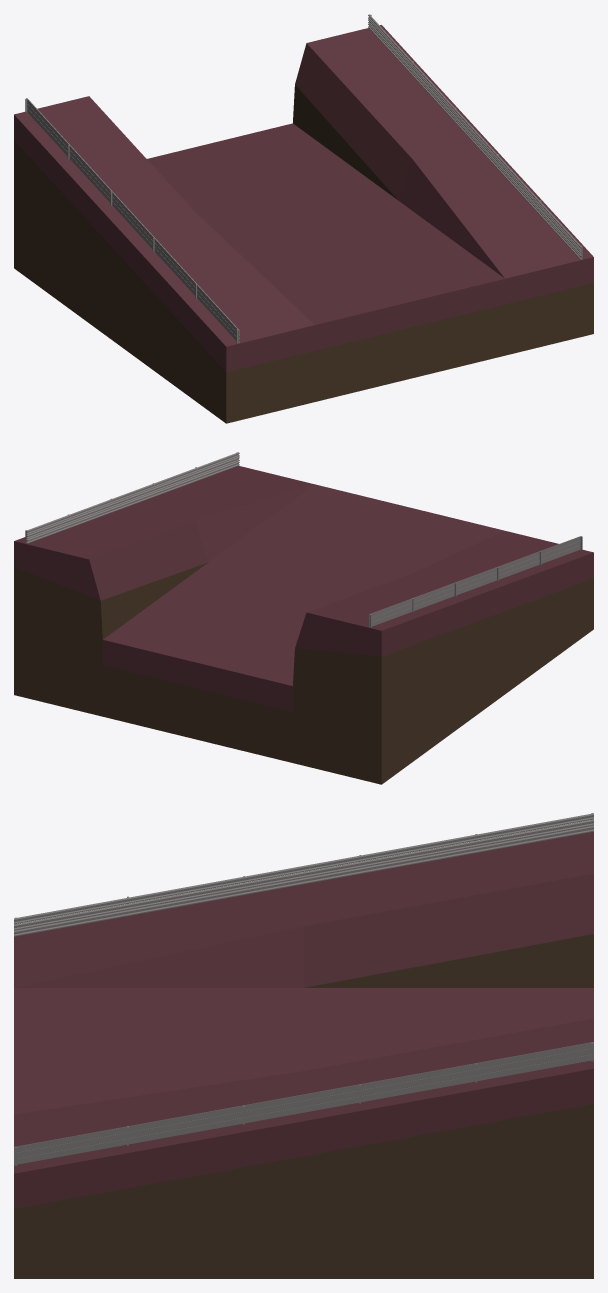
Rendered from tiles-tile-race-track-cliff-entrance.glb.
3 views of the same model, one above another, from view 1: azimuth 30°, elevation 25°; view 2: azimuth 150°, elevation 25°; view 3: azimuth 270°, elevation 25° (orthographic). The views are drawn at different scales.
Visible parts, largest first — view 1: tile-race-track-cliff-entrance; view 2: tile-race-track-cliff-entrance; view 3: tile-race-track-cliff-entrance.
Boxes of the visible parts, x1,y1,x2,y2 form: tile-race-track-cliff-entrance: (14,14,593,423); tile-race-track-cliff-entrance: (14,452,593,784); tile-race-track-cliff-entrance: (14,813,593,1278).
Size of the model in its own units: 30 by 13.05 by 30.
